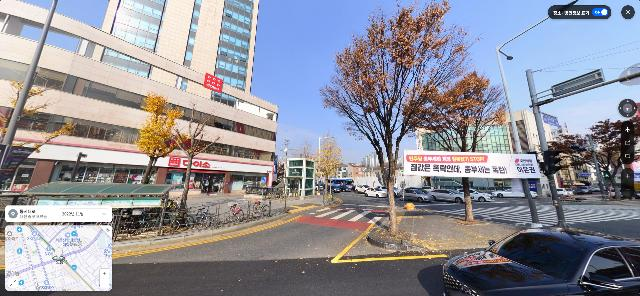ginkgo: (0, 73, 77, 173), (135, 93, 186, 183), (312, 136, 346, 198)
other: (318, 0, 487, 236), (413, 65, 511, 221), (168, 100, 223, 218), (586, 116, 639, 194), (531, 135, 593, 199)
